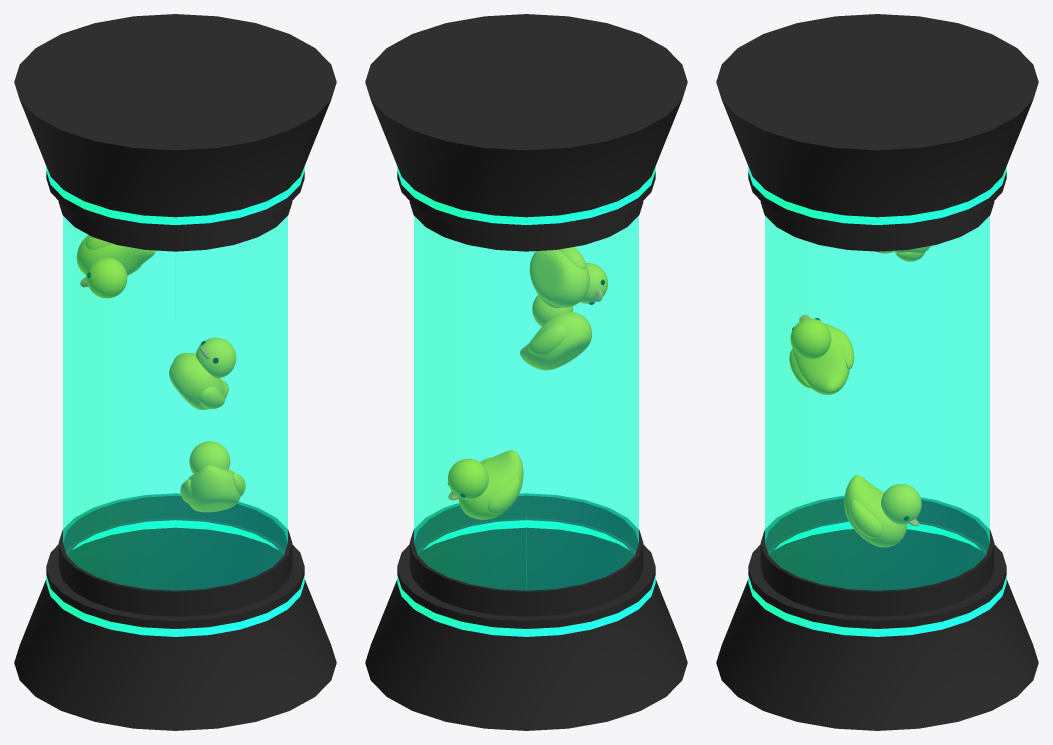
File: ScienceTubes.fbx
3 renders of one model, left to right at view 1: azimuth 30°, elevation 25°; view 2: azimuth 150°, elevation 25°; view 3: azimuth 270°, elevation 25°, orthographic.
Visible parts, largest first — view 1: Cylinder, FloatingDuck2, FloatingDuck, FloatingDuck3; view 2: Cylinder, FloatingDuck, FloatingDuck3, FloatingDuck2; view 3: Cylinder, FloatingDuck, FloatingDuck2.
Boxes of the visible parts, x1,y1,x2,y2 form: Cylinder: (14,14,336,730); FloatingDuck2: (169,337,236,409); FloatingDuck: (180,441,245,512); FloatingDuck3: (76,235,155,298); Cylinder: (365,14,687,730); FloatingDuck: (447,450,523,519); FloatingDuck3: (529,247,607,308); FloatingDuck2: (520,295,591,370); Cylinder: (716,14,1038,730); FloatingDuck: (844,475,921,547); FloatingDuck2: (789,314,854,394).
Size of the model in its own units: 128 by 255 by 128.
